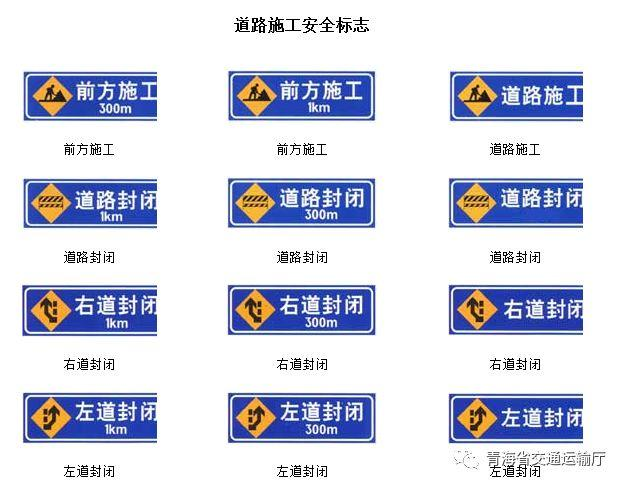sign: (226, 284, 376, 335), (229, 394, 374, 444), (227, 179, 375, 227), (26, 393, 160, 445), (229, 71, 373, 119), (24, 71, 158, 120), (449, 286, 583, 335), (24, 286, 157, 335), (449, 393, 584, 441), (24, 179, 158, 227), (450, 180, 583, 227), (451, 74, 584, 119)
